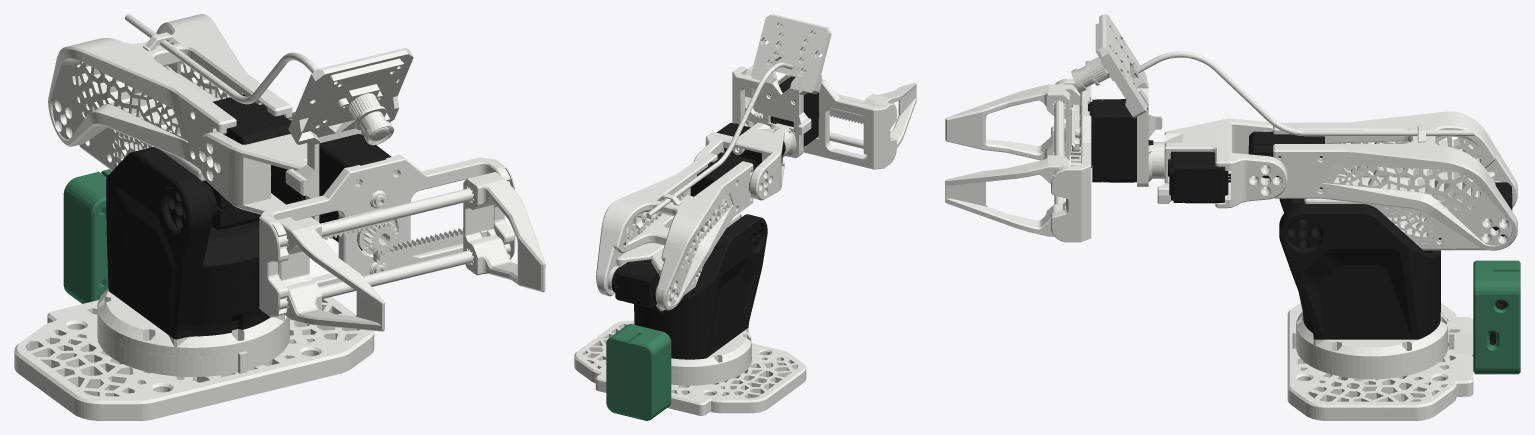
3 views of the same model, side by side, from view 1: azimuth 30°, elevation 25°; view 2: azimuth 150°, elevation 25°; view 3: azimuth 270°, elevation 25° (orthographic). The views are drawn at different scales.
Size of the model in its own units: 0.16 by 0.2178 by 0.3407.
